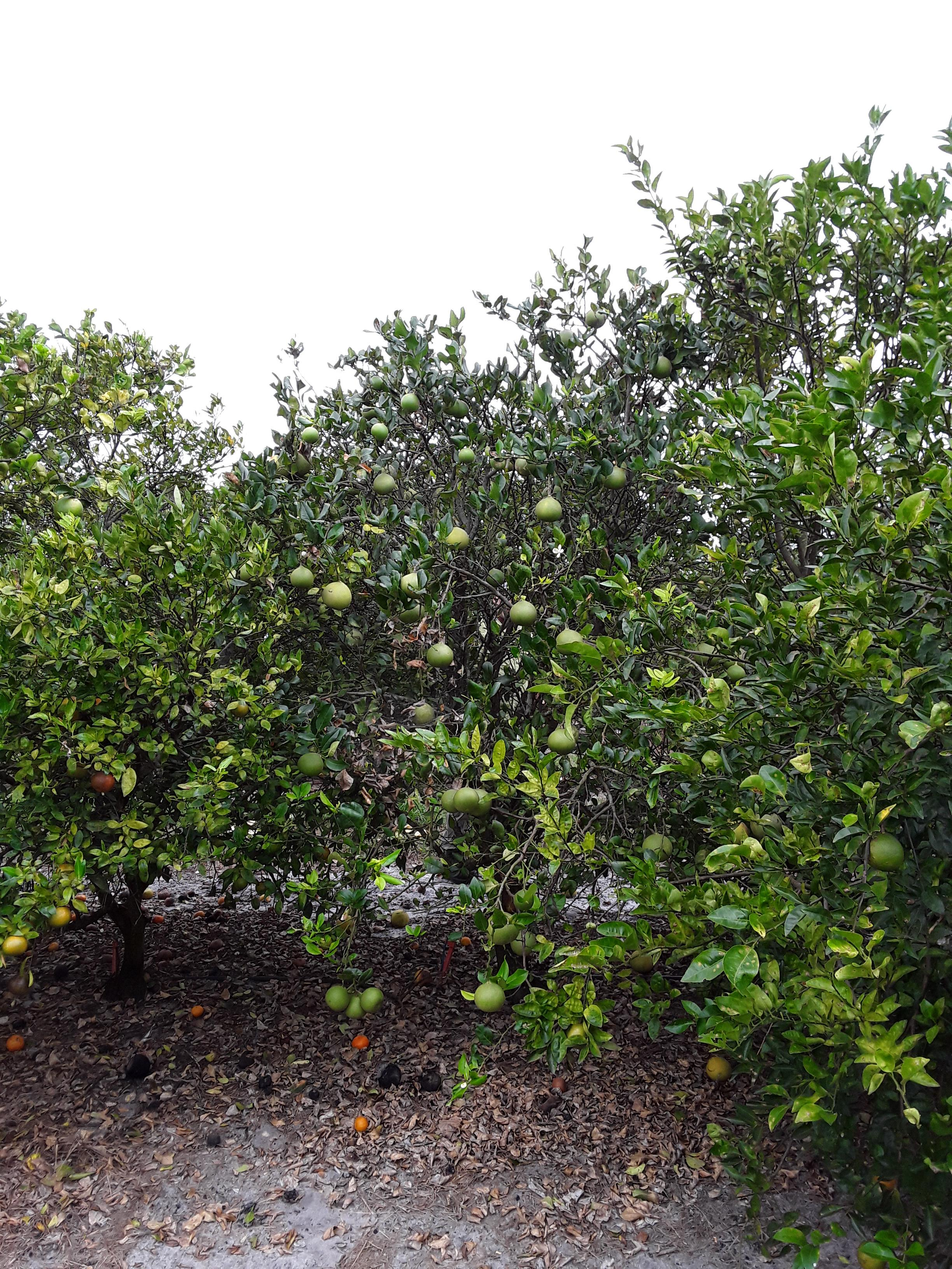fruit_on_ground: (871, 822, 909, 872), (50, 692, 90, 730), (716, 807, 749, 848), (749, 810, 787, 844), (550, 725, 582, 763), (641, 832, 676, 866), (473, 980, 506, 1015), (560, 1017, 596, 1049), (326, 582, 357, 619), (49, 495, 91, 522), (509, 597, 541, 631), (487, 916, 518, 951), (294, 747, 325, 781), (289, 556, 319, 591), (508, 925, 538, 960), (235, 556, 266, 589), (553, 626, 587, 656), (427, 639, 455, 675), (534, 496, 562, 531), (454, 784, 485, 815), (263, 452, 294, 482), (397, 573, 429, 602), (9, 970, 39, 1000), (325, 982, 354, 1013), (360, 985, 388, 1016), (691, 641, 723, 668), (446, 530, 472, 563), (218, 567, 246, 597), (61, 757, 92, 784), (341, 626, 373, 652), (604, 462, 628, 495), (513, 884, 539, 914), (628, 947, 654, 976), (469, 785, 491, 818), (397, 602, 429, 624), (724, 661, 752, 686), (478, 820, 506, 845), (3, 932, 27, 961), (54, 861, 84, 884), (583, 304, 606, 332), (552, 329, 580, 352), (3, 436, 28, 461), (439, 789, 464, 814), (344, 995, 369, 1020), (373, 473, 398, 497), (91, 773, 114, 799), (653, 354, 675, 381), (51, 903, 74, 928), (402, 395, 424, 421), (515, 454, 537, 480), (415, 701, 437, 727), (367, 418, 388, 444), (292, 453, 313, 478), (302, 426, 328, 446), (364, 374, 388, 395), (485, 568, 508, 589), (455, 395, 475, 419), (228, 698, 251, 717), (405, 488, 428, 506), (486, 451, 506, 471), (439, 395, 459, 414), (457, 446, 475, 466), (254, 879, 278, 894), (208, 836, 231, 851), (229, 878, 253, 891), (316, 845, 333, 859), (0, 460, 13, 477), (504, 459, 513, 474)
fruit_on_tree: (853, 1239, 892, 1269), (703, 1053, 733, 1088), (124, 1052, 151, 1085), (306, 933, 339, 955), (374, 1067, 398, 1094), (419, 1068, 443, 1094), (536, 1097, 560, 1119), (337, 909, 358, 934), (390, 907, 412, 930), (880, 1173, 901, 1197), (549, 1077, 570, 1100), (413, 971, 433, 994), (349, 1031, 368, 1053), (7, 1030, 25, 1053), (256, 1076, 273, 1099), (72, 891, 96, 907), (350, 1113, 368, 1134), (52, 964, 72, 982), (204, 1130, 222, 1149), (305, 1085, 324, 1102), (282, 1186, 298, 1206), (235, 1056, 258, 1069), (414, 885, 434, 898), (84, 921, 100, 936), (158, 946, 174, 961), (190, 1002, 204, 1019), (458, 935, 472, 951), (407, 939, 423, 953), (157, 891, 177, 901), (209, 937, 223, 950), (161, 897, 179, 907), (140, 890, 156, 901), (215, 895, 231, 906), (156, 918, 168, 932), (183, 888, 197, 899), (259, 895, 273, 906), (45, 942, 58, 951), (194, 911, 204, 920)
